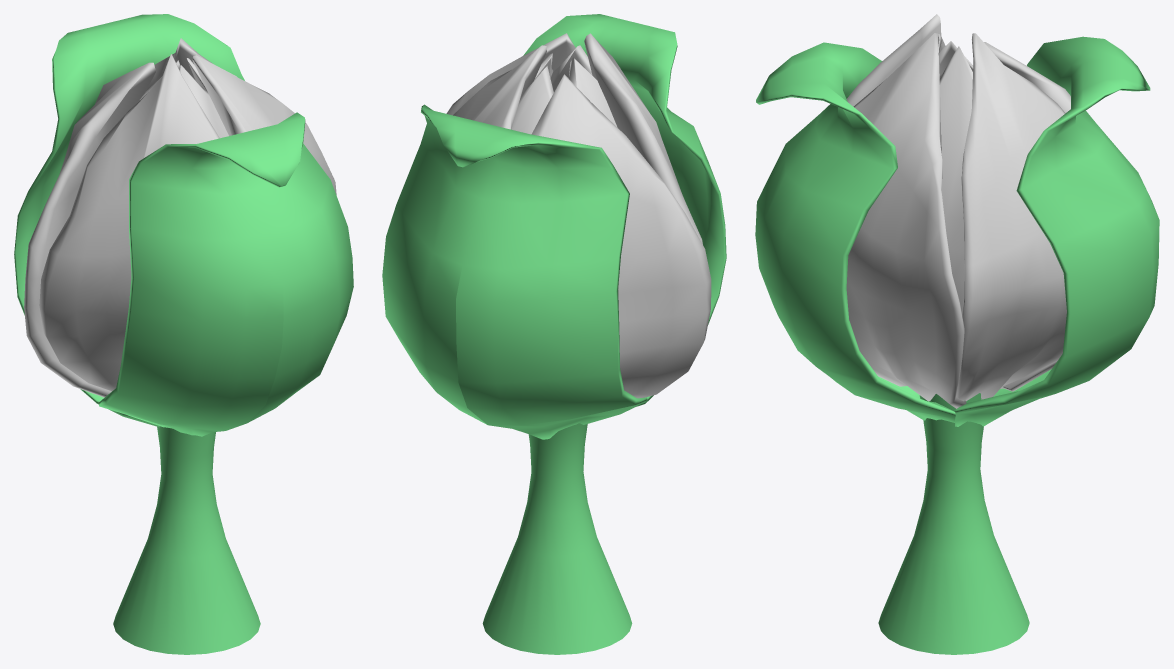
Rendered from ClosedFlowerPlatform.fbx.
3 renders of one model, left to right at view 1: azimuth 30°, elevation 25°; view 2: azimuth 150°, elevation 25°; view 3: azimuth 270°, elevation 25°, orthographic. The views are drawn at different scales.
Visible parts, largest first — view 1: ClosedFlower; view 2: ClosedFlower; view 3: ClosedFlower.
Part boxes in pixels (bbox=[...]): ClosedFlower: bbox=[14, 14, 353, 654]; ClosedFlower: bbox=[382, 14, 726, 654]; ClosedFlower: bbox=[755, 14, 1159, 654].
Bounding box in the file's own units: 249 × 452 × 277.
